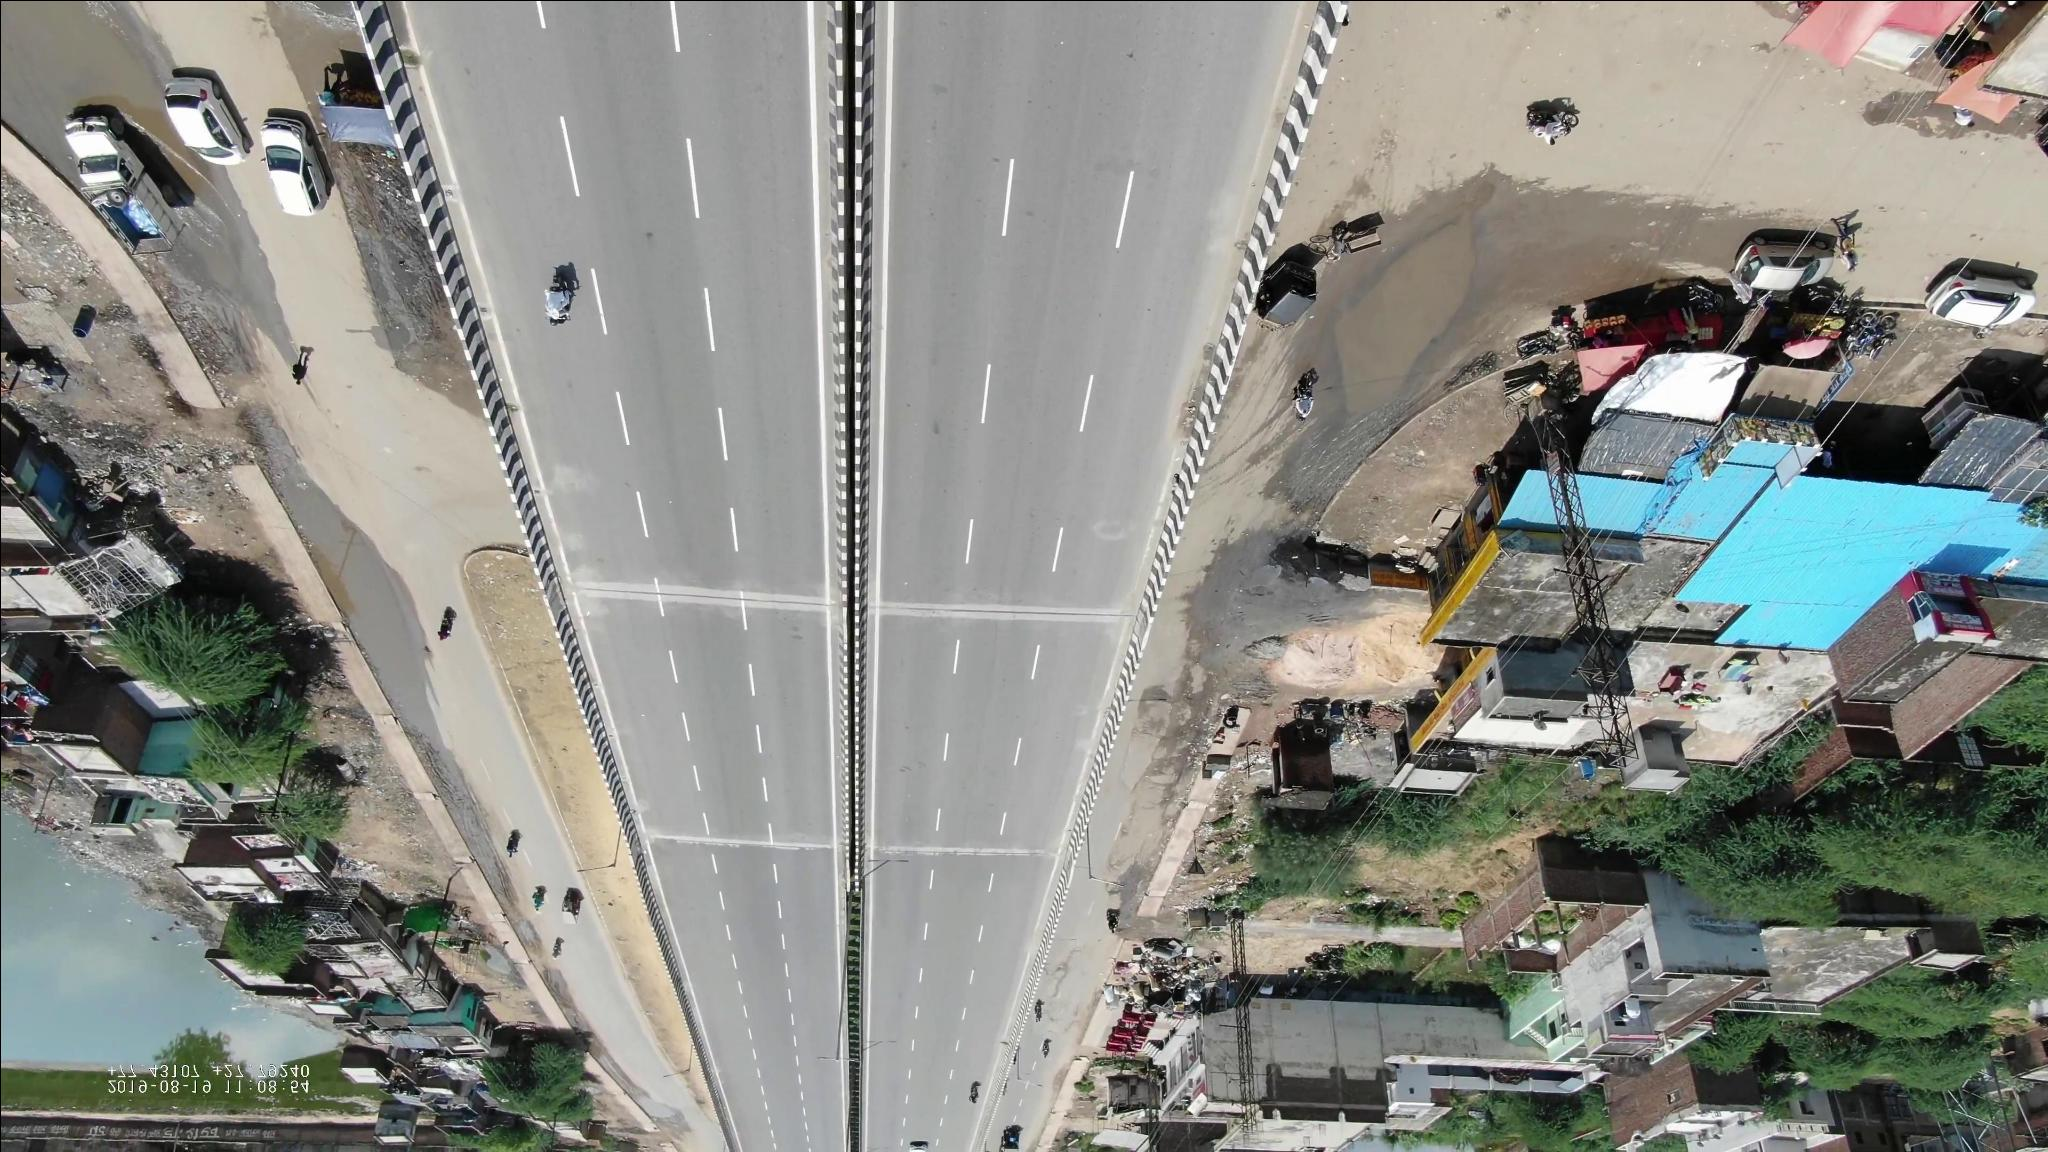Waterlogging: (1329, 207, 1490, 411), (287, 494, 421, 686)
